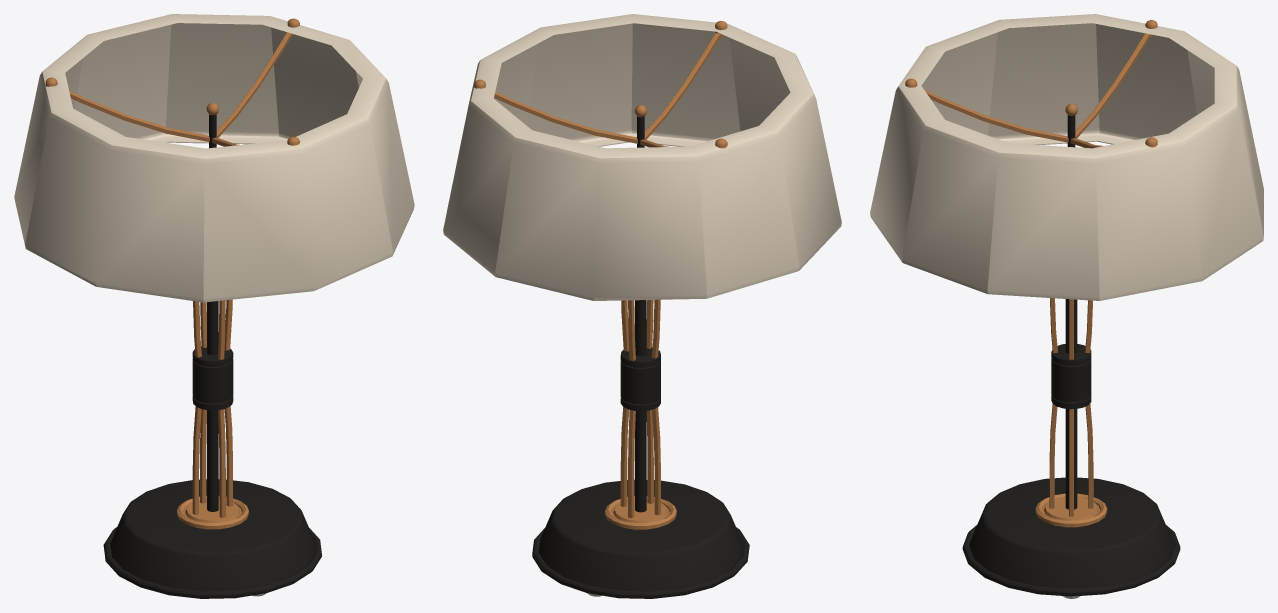
File: light_lamp_2.fbx
3 views of the same model, side by side, from view 1: azimuth 30°, elevation 25°; view 2: azimuth 150°, elevation 25°; view 3: azimuth 270°, elevation 25° (orthographic).
Parts seen in each view (by area): view 1: botm; view 2: botm; view 3: botm.
Part boxes in pixels (box(x1,y1,x2,y2)): botm: box(14, 14, 414, 598); botm: box(443, 14, 841, 598); botm: box(870, 14, 1263, 598).
Size of the model in its own units: 39.13 by 51.93 by 38.73.
